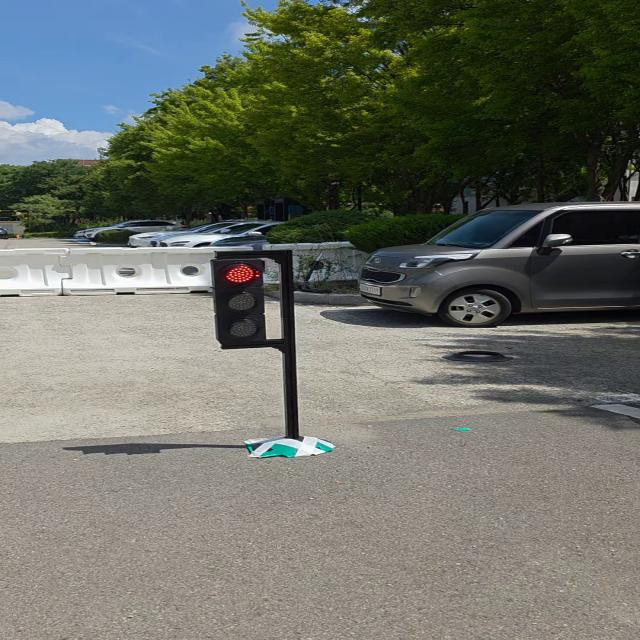red: (198, 252, 280, 352)
